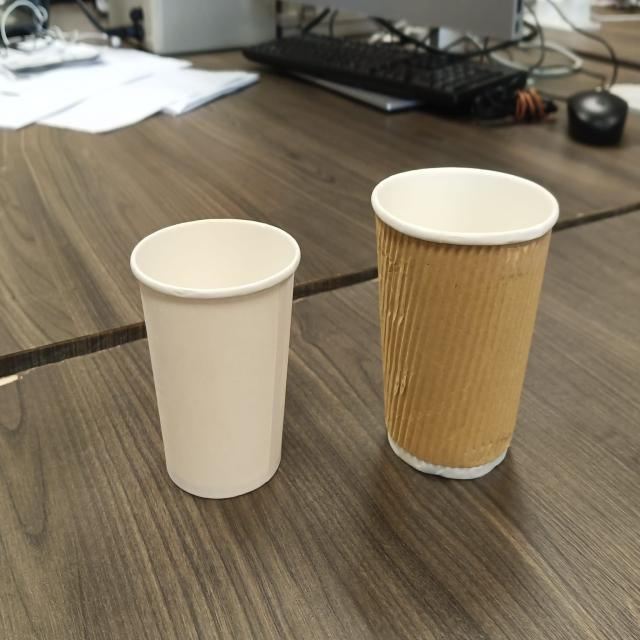Browncup: (371, 168, 559, 478)
Whitecup: (131, 219, 300, 498)
